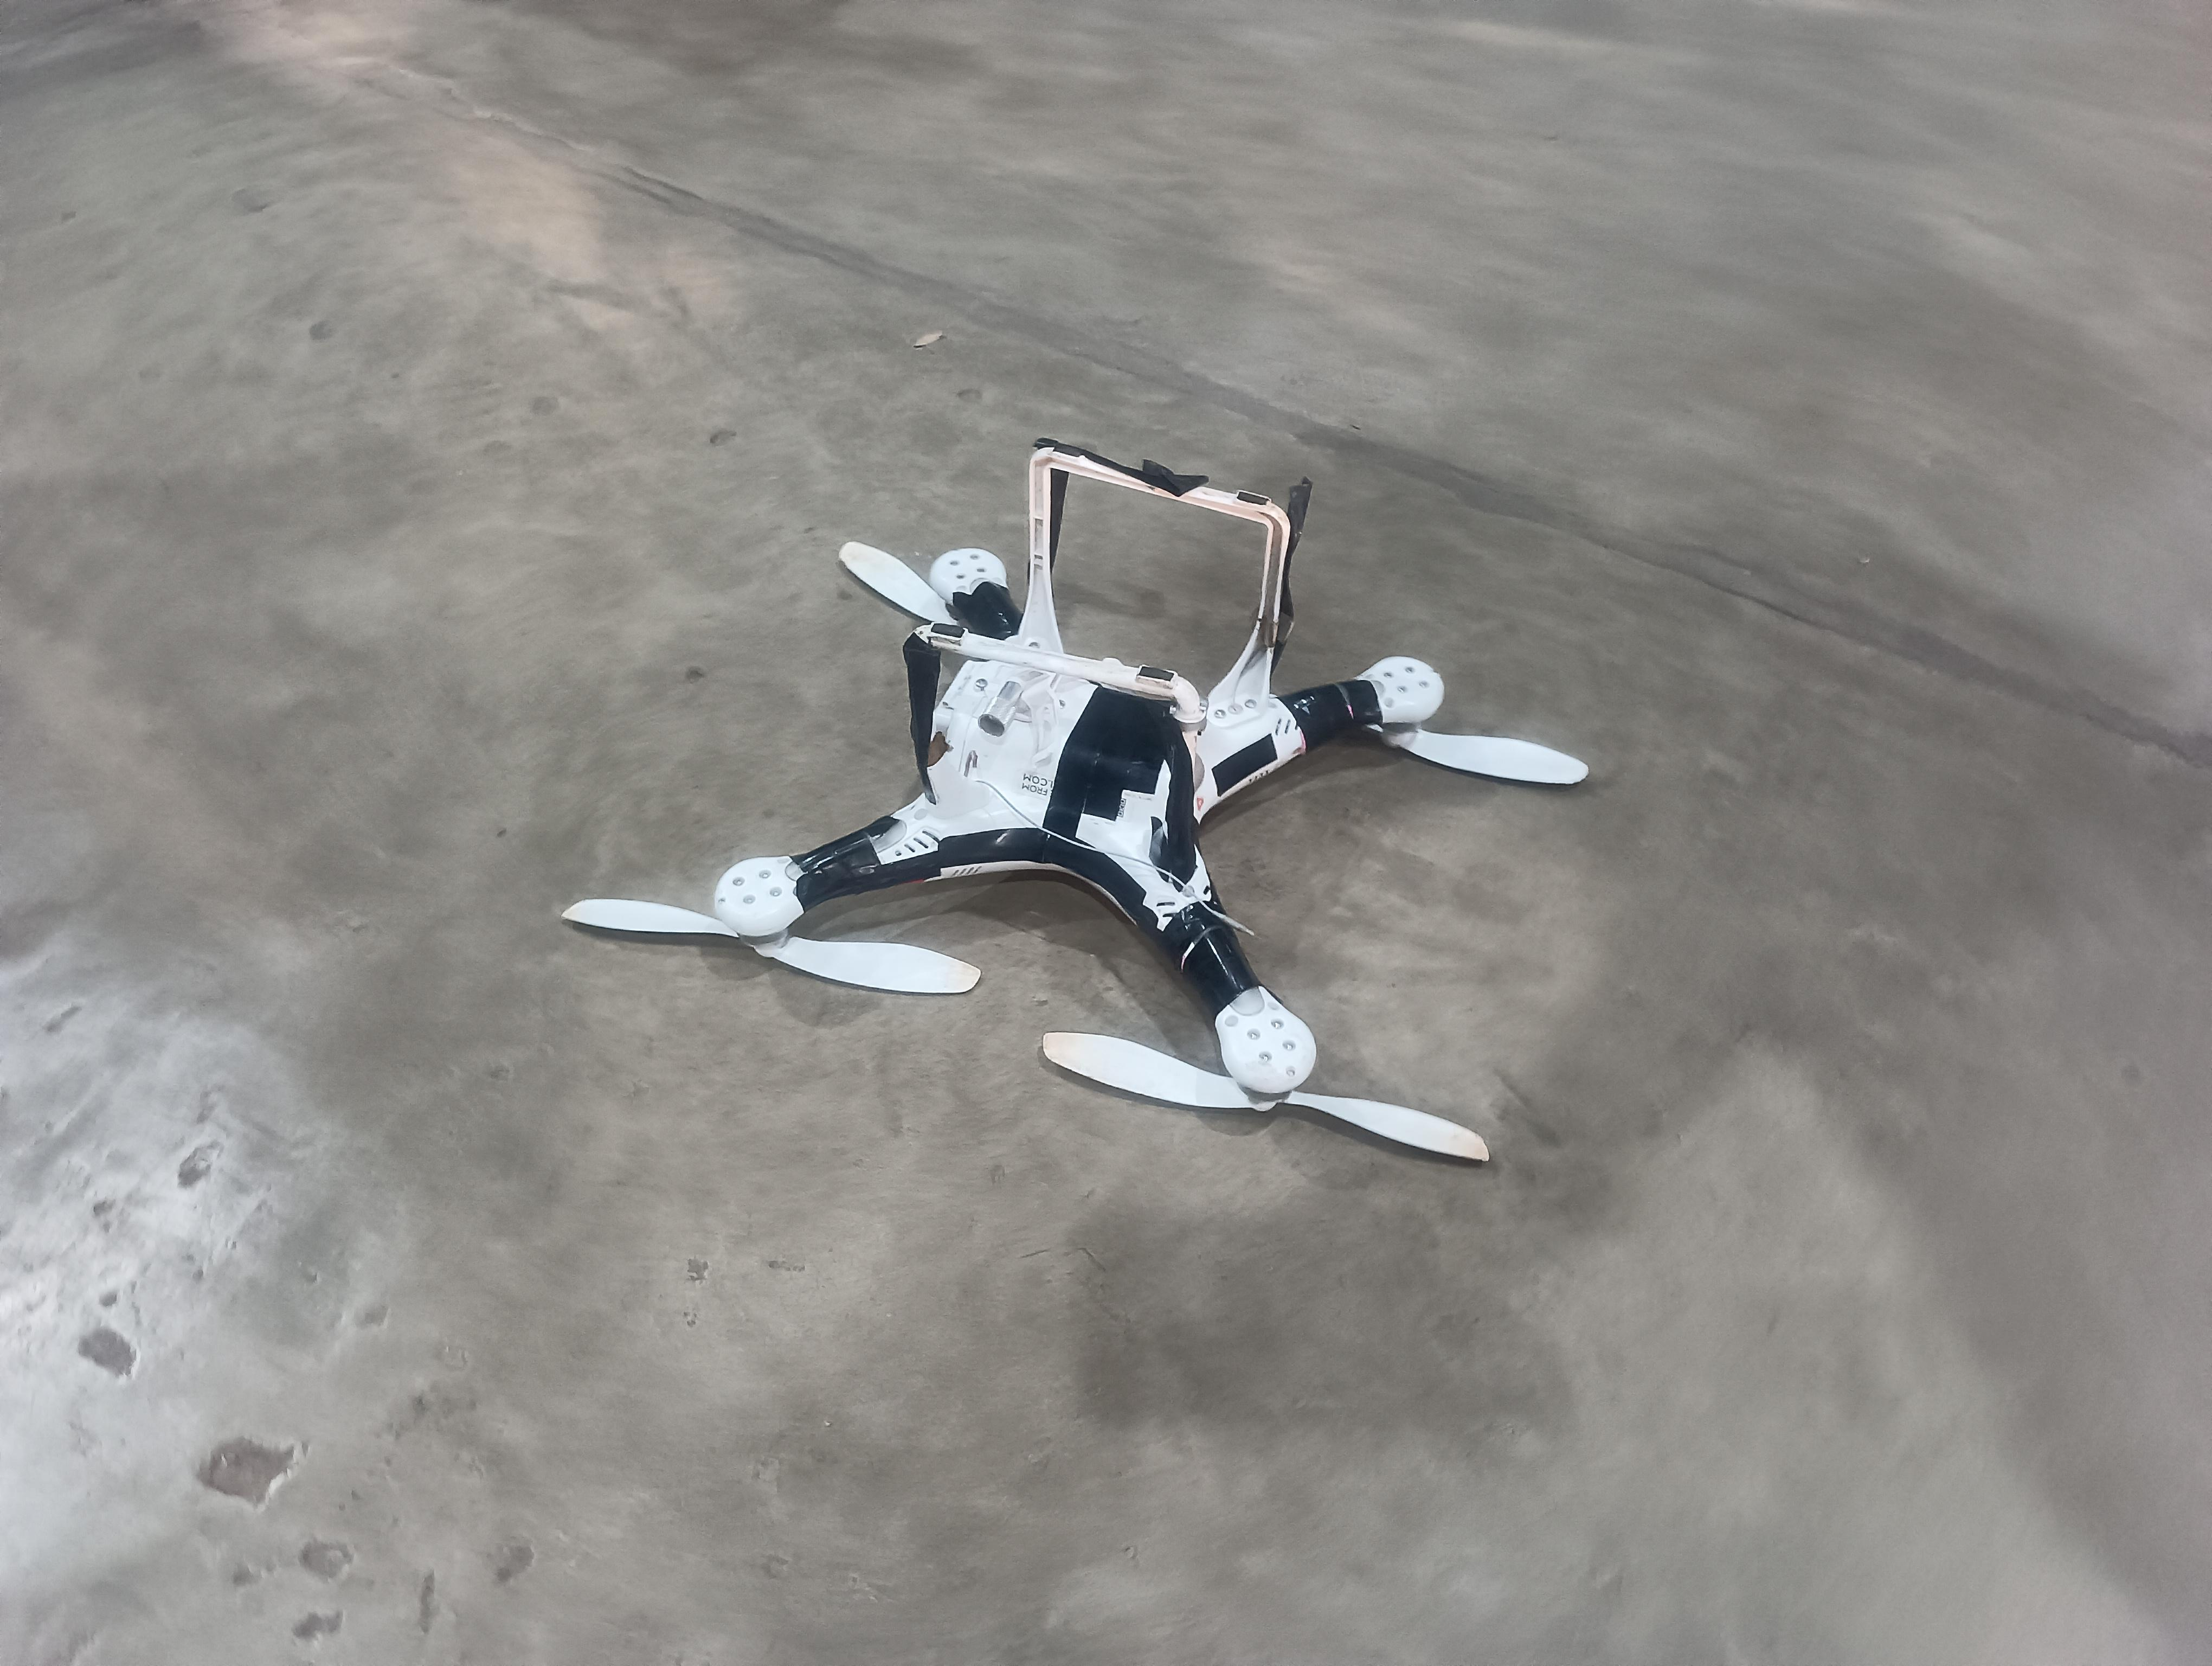drone: (708, 429, 1467, 1132)
